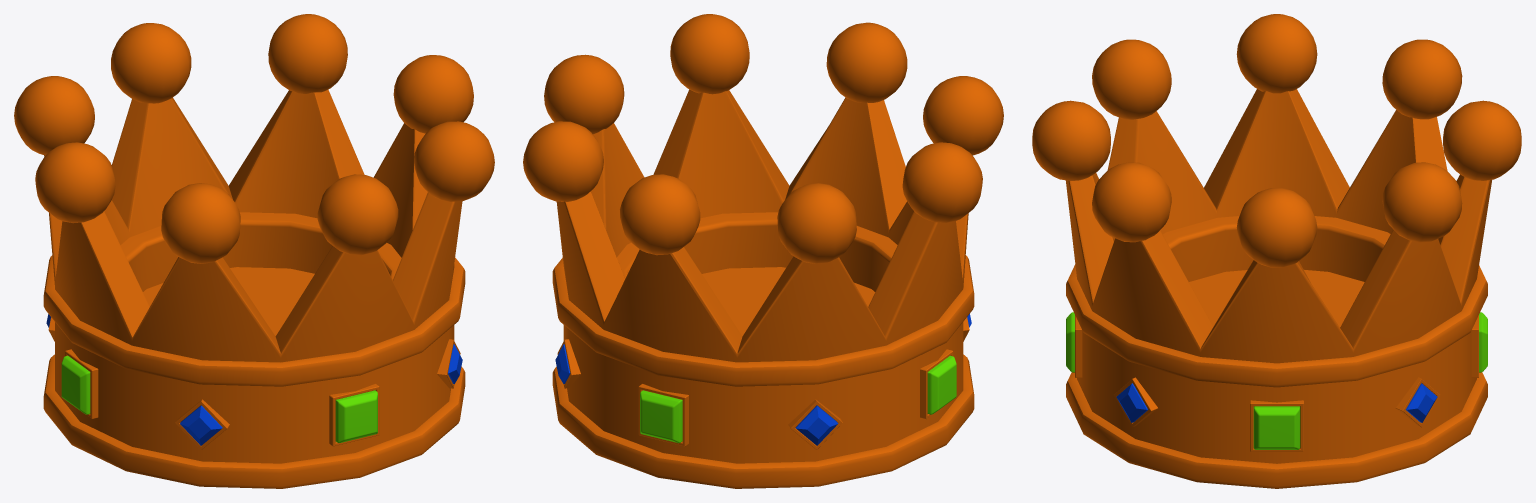
The model's file is Crown.fbx.
The picture shows the model from 3 angles, left to right: view 1: azimuth 30°, elevation 25°; view 2: azimuth 150°, elevation 25°; view 3: azimuth 270°, elevation 25°; orthographic projection.
Parts seen in each view (by area): view 1: polySurface22; view 2: polySurface22; view 3: polySurface22.
Part boxes in pixels (x1,y1,x2,y2): polySurface22: (14,14,494,488); polySurface22: (523,14,1003,488); polySurface22: (1032,14,1521,488).
Size of the model in its own units: 195 by 131 by 195.
